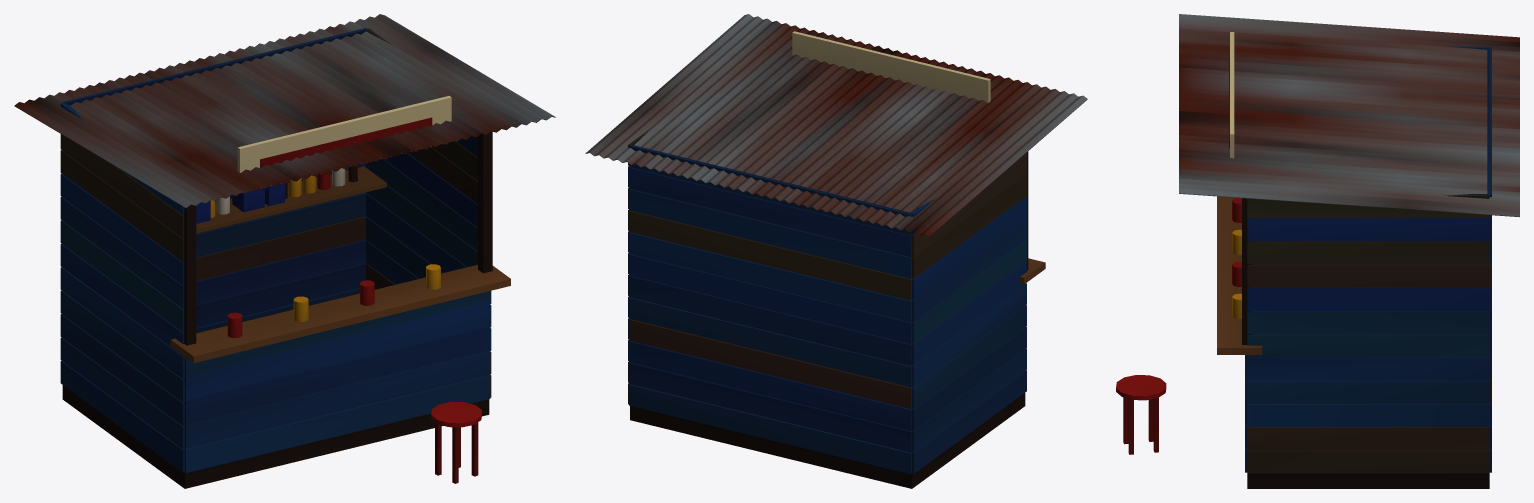
Rendered from mk_stall_wood.glb.
3 renders of one model, left to right at view 1: azimuth 30°, elevation 25°; view 2: azimuth 150°, elevation 25°; view 3: azimuth 270°, elevation 25°, orthographic. The views are drawn at different scales.
Visible parts, largest first — view 1: mk_stall_wood; view 2: mk_stall_wood; view 3: mk_stall_wood.
Boxes of the visible parts, x1,y1,x2,y2 form: mk_stall_wood: (14,14,555,488); mk_stall_wood: (585,14,1087,488); mk_stall_wood: (1116,14,1519,488).
Size of the model in its own units: 2.8 by 2.42 by 2.67.
